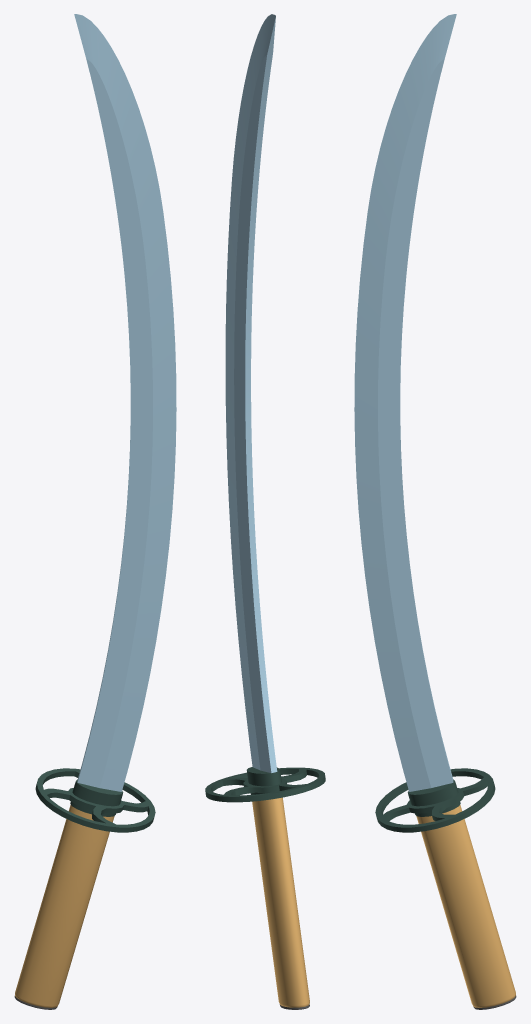
The model's file is sword.gltf.
3 views of the same model, side by side, from view 1: azimuth 90°, elevation 25°; view 2: azimuth 210°, elevation 25°; view 3: azimuth 270°, elevation 25° (orthographic).
Visible parts, largest first — view 1: blade, handle, handle_protection; view 2: blade, handle, handle_protection; view 3: blade, handle, handle_protection.
Boxes of the visible parts, bbox=[...] form: blade: bbox=[74, 14, 176, 791]; handle: bbox=[15, 805, 114, 1007]; handle_protection: bbox=[35, 768, 155, 832]; blade: bbox=[225, 14, 277, 773]; handle: bbox=[252, 797, 309, 1007]; handle_protection: bbox=[205, 767, 325, 802]; blade: bbox=[354, 14, 456, 791]; handle: bbox=[416, 805, 515, 1007]; handle_protection: bbox=[375, 768, 495, 832].
Bounding box in the file's own units: 0.1073 × 0.9581 × 0.1416.
